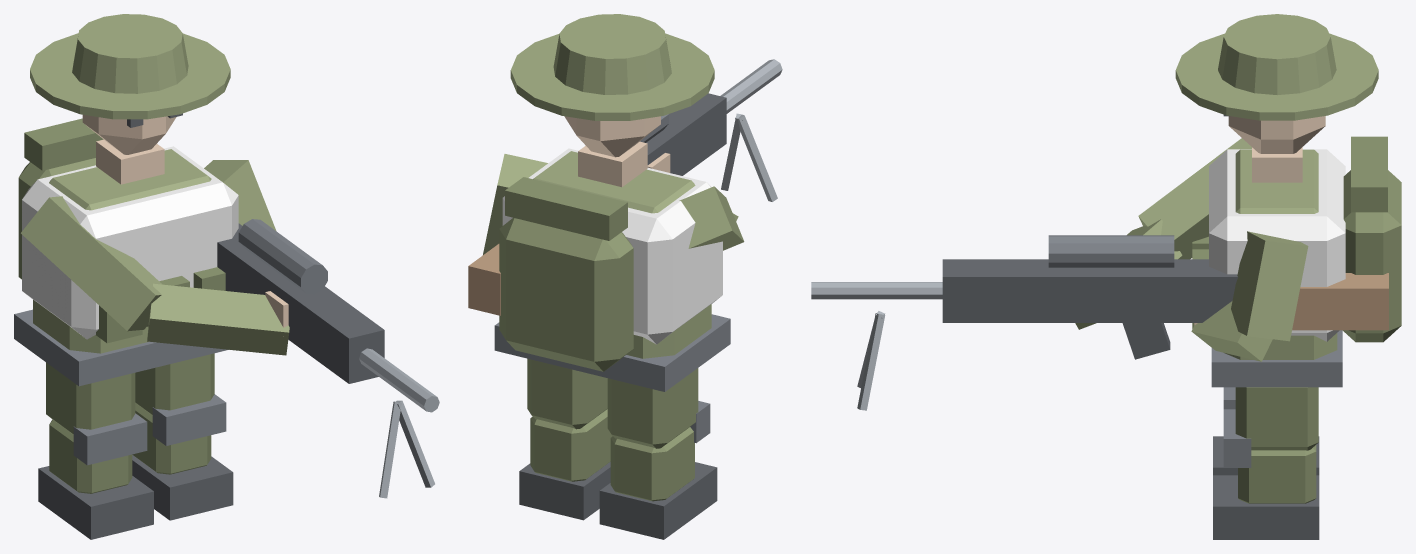
File: sniper.glb
3 views of the same model, side by side, from view 1: azimuth 30°, elevation 25°; view 2: azimuth 150°, elevation 25°; view 3: azimuth 270°, elevation 25° (orthographic).
Parts seen in each view (by area): view 1: main, shinl, shinr, legl, legr; view 2: main, shinl, shinr, legl, legr; view 3: main, shinr, legr, shinl.
Part boxes in pixels (x1,y1,x2,y2): main: (14,14,439,498); shinl: (38,413,153,539); shinr: (132,394,233,520); legl: (46,362,135,434); legr: (135,353,214,415); main: (468,14,782,391); shinl: (599,401,717,539); shinr: (519,409,612,520); legl: (607,368,698,448); legr: (527,358,607,429); main: (811,14,1401,410); shinr: (1213,409,1319,539); legr: (1235,387,1318,450); shinl: (1213,387,1319,475).
Bounding box in the file's own units: 0.3161 × 0.56 × 0.6401.
